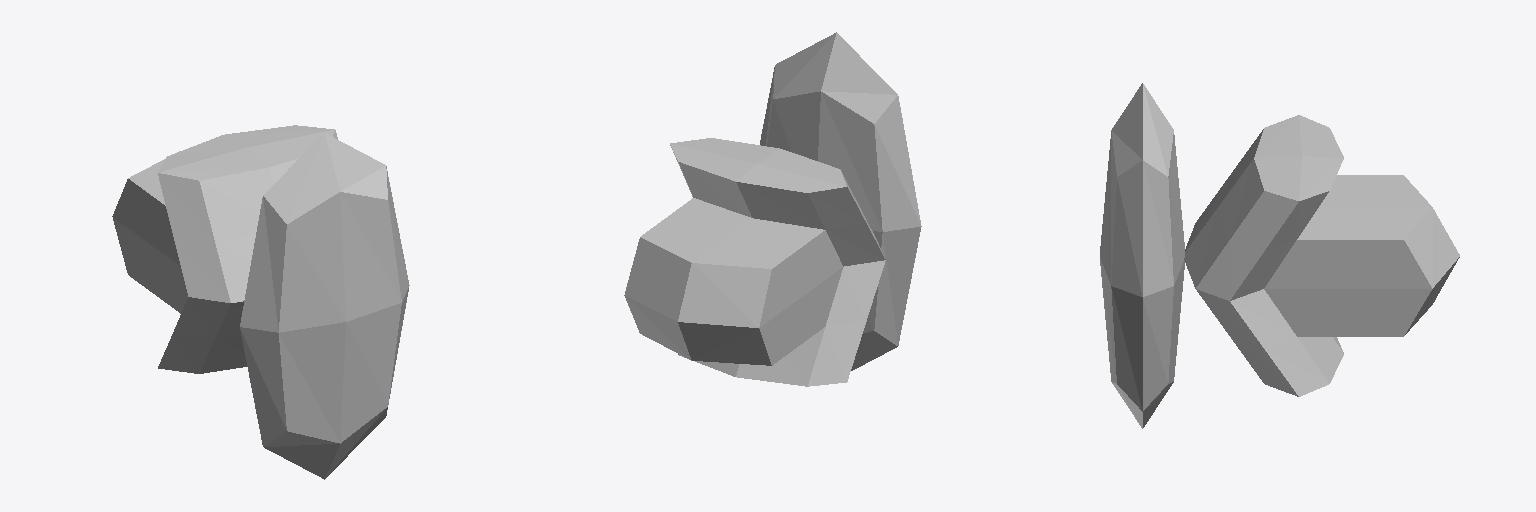
Rendered from stick.obj.
3 renders of one model, left to right at view 1: azimuth 30°, elevation 25°; view 2: azimuth 150°, elevation 25°; view 3: azimuth 270°, elevation 25°, orthographic.
Parts seen in each view (by area): view 1: Cube; view 2: Cube; view 3: Cube.
Boxes of the visible parts, x1,y1,x2,y2 form: Cube: [112, 125, 409, 479]; Cube: [624, 32, 921, 386]; Cube: [1100, 83, 1459, 428].
Size of the model in its own units: 1.83 by 3.28 by 3.09.